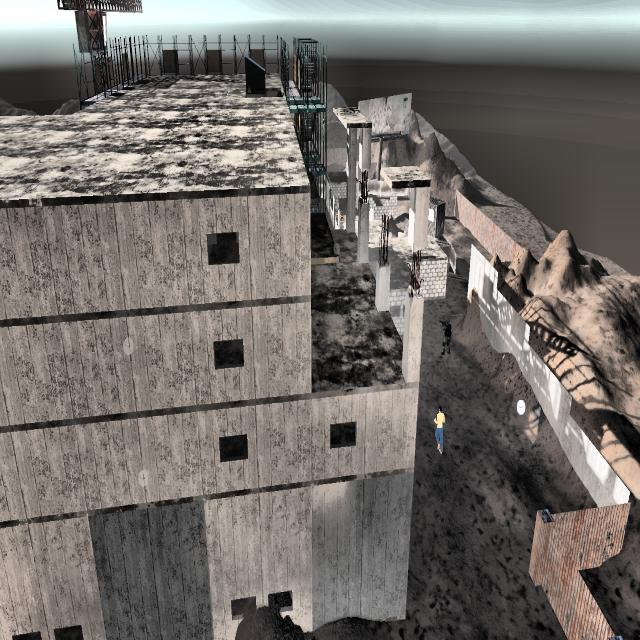bad: (439, 309, 457, 364)
good: (431, 402, 448, 463)
